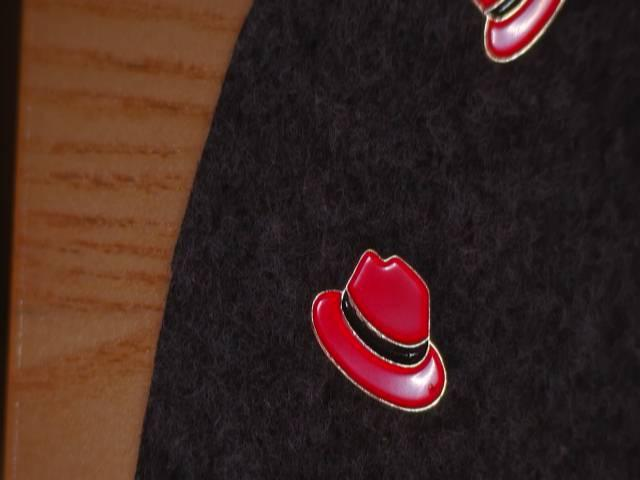Red-Hat: (279, 233, 477, 429), (453, 0, 598, 83)
